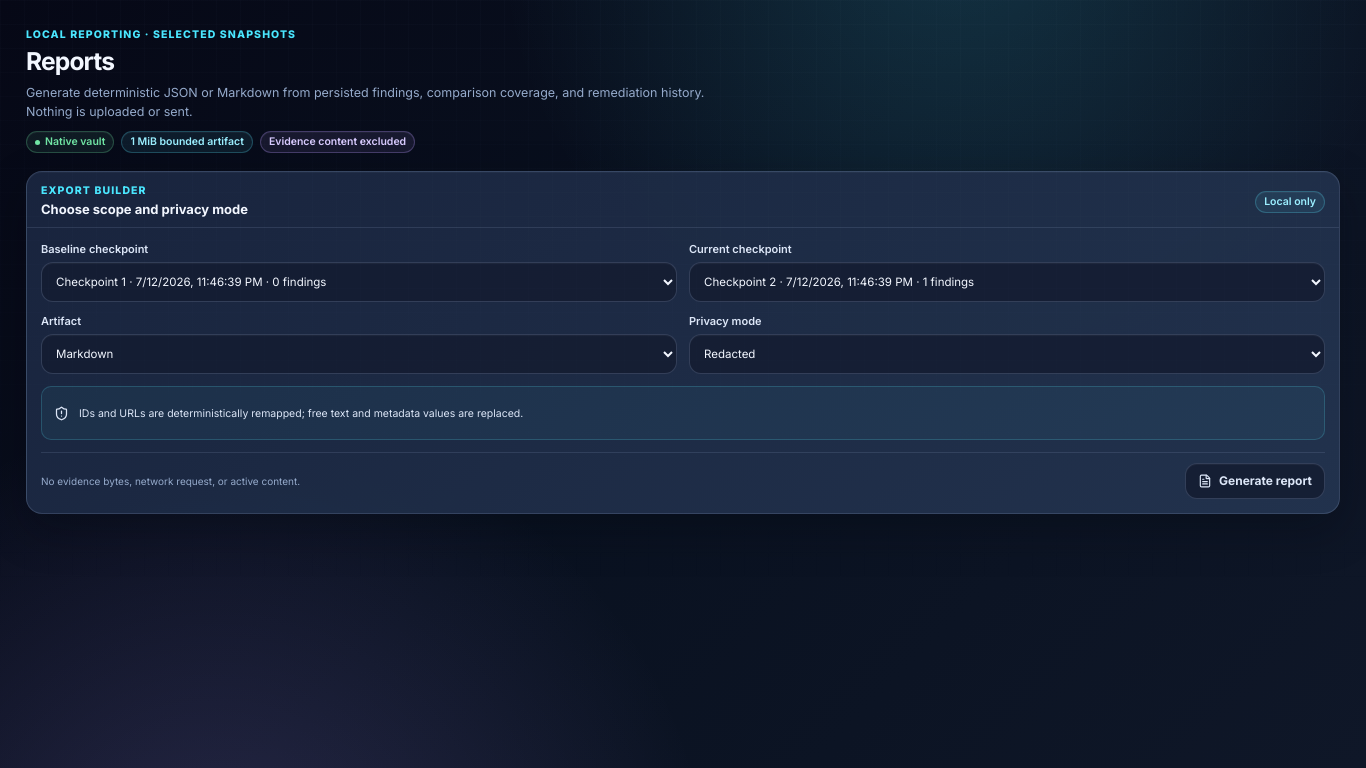
it: native local reporting UI › requires an explicit checkbox before full report generation
This screenshot has width=1366, height=768.
expect the heading "Choose scope and privacy mode" is shown: met, box [41, 201, 248, 217]
Select "Full · explicit approval" in the dropdown labelled "Privacy mode" at (1007, 354), box [689, 334, 1325, 374]
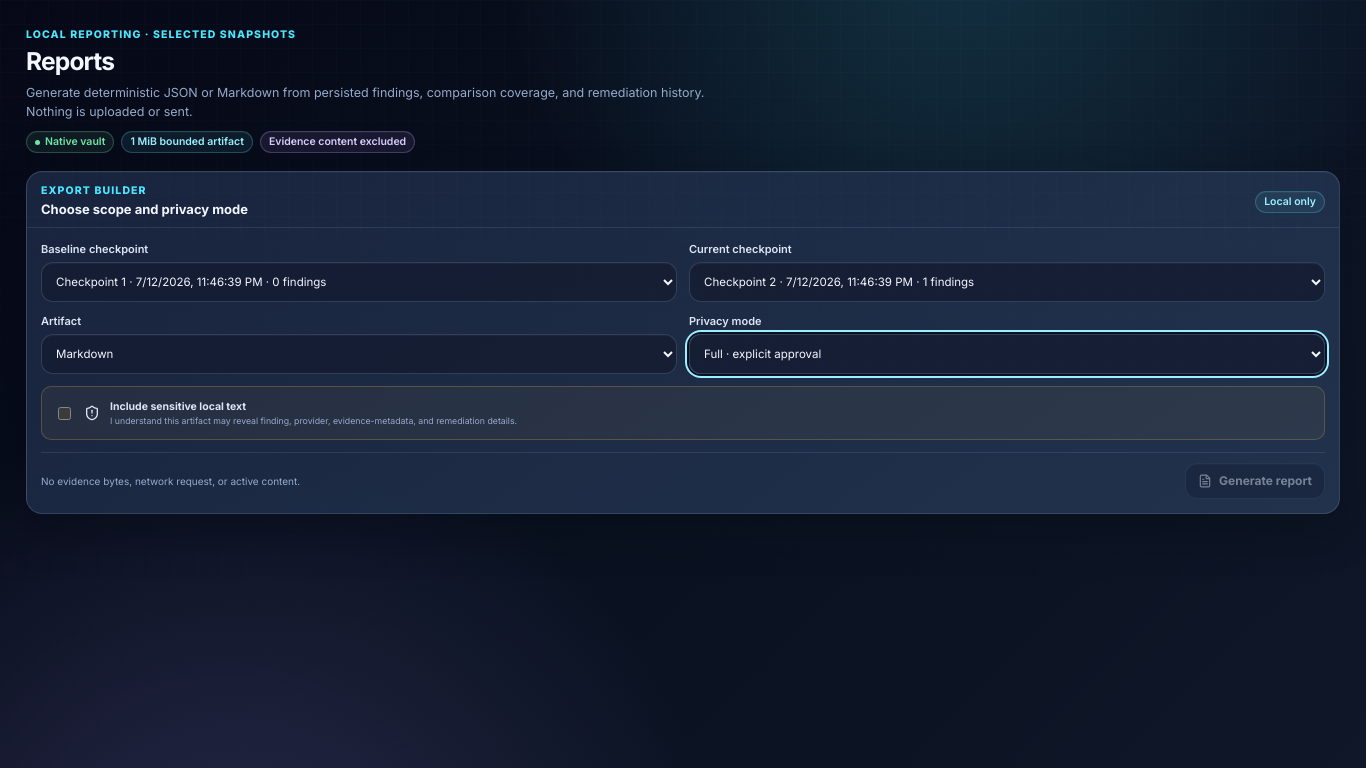
expect the button "Generate report" is disabled: met, box [1185, 463, 1325, 499]
Click the text "Include sensitive local text" at (178, 406), box [110, 400, 246, 412]
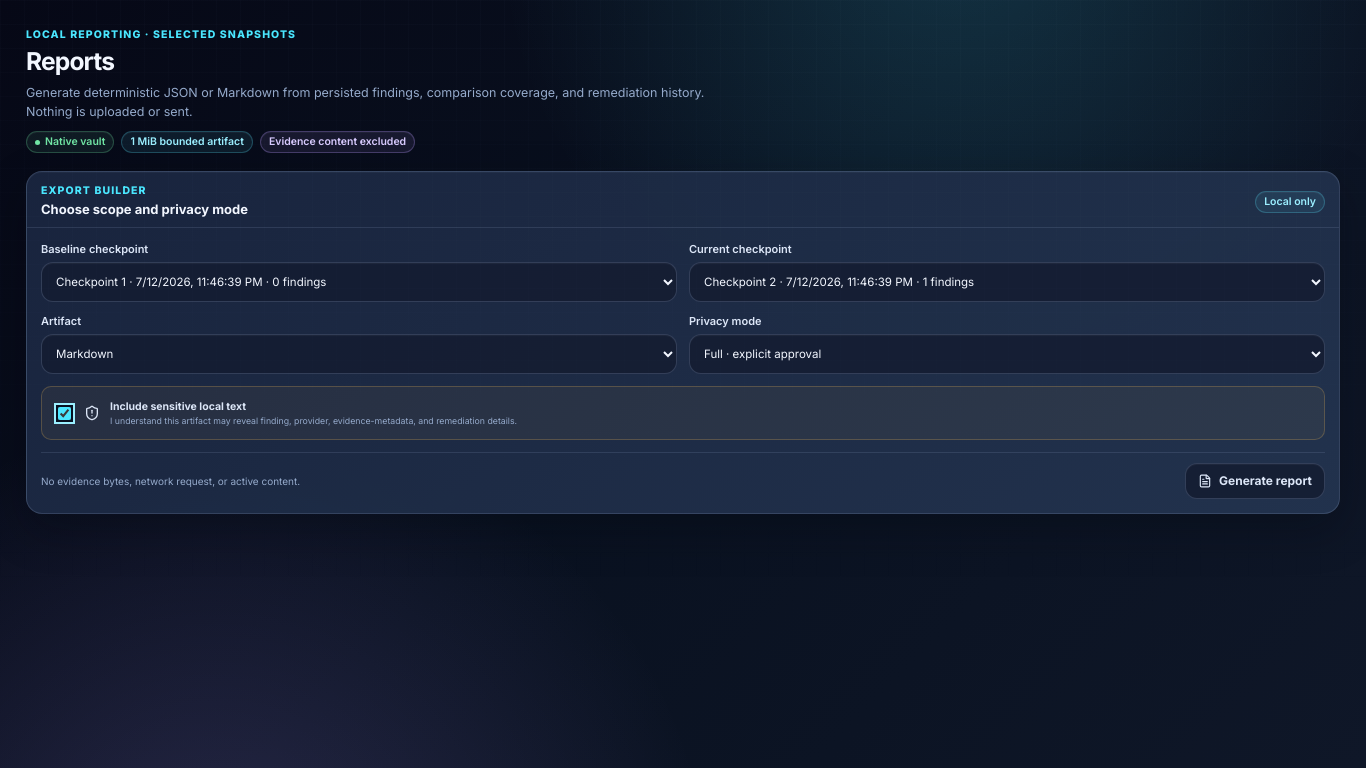
expect the button "Generate report" is enabled: met, box [1185, 463, 1325, 499]
